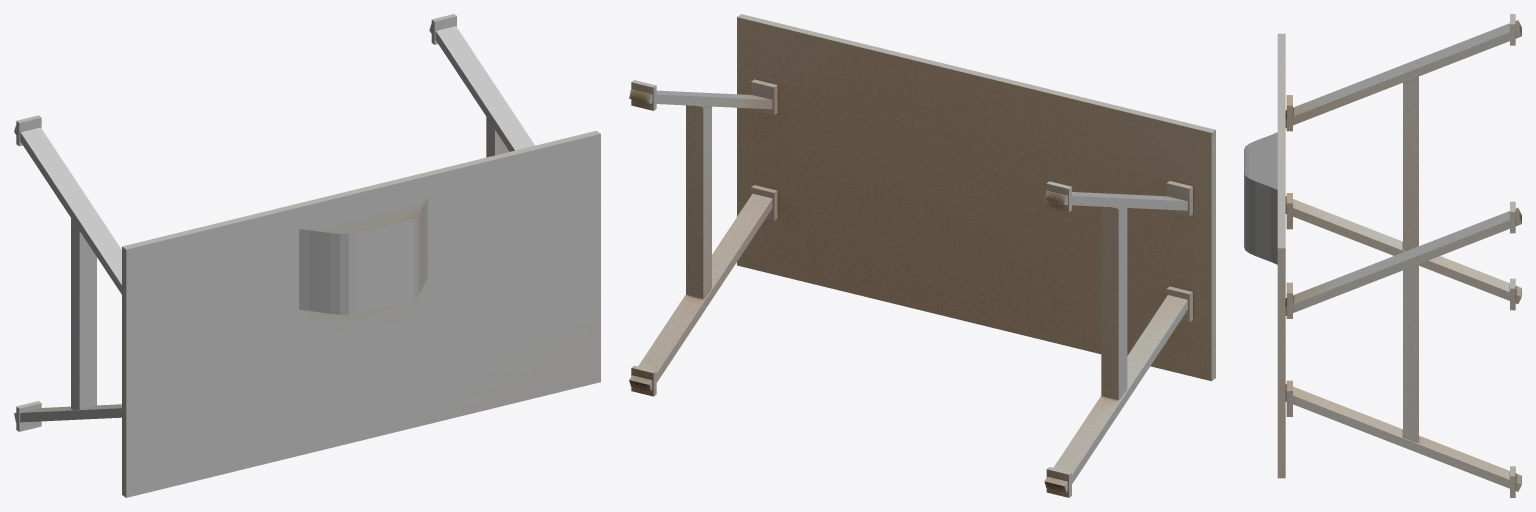
File: E1_desk_final_4.obj
The picture shows the model from 3 angles, left to right: view 1: azimuth 30°, elevation 25°; view 2: azimuth 150°, elevation 25°; view 3: azimuth 270°, elevation 25°; orthographic projection. The views are drawn at different scales.
Visible parts, largest first — view 1: E1_desk_final_4.001; view 2: E1_desk_final_4.001; view 3: E1_desk_final_4.001.
Part boxes in pixels (left/top/right/bottom): E1_desk_final_4.001: left=14, top=14, right=600, bottom=497; E1_desk_final_4.001: left=629, top=14, right=1215, bottom=497; E1_desk_final_4.001: left=1244, top=14, right=1521, bottom=497.
Bounding box in the file's own units: 1.6 × 0.995 × 0.8755.
Materials: 1 (1 with a texture image).
